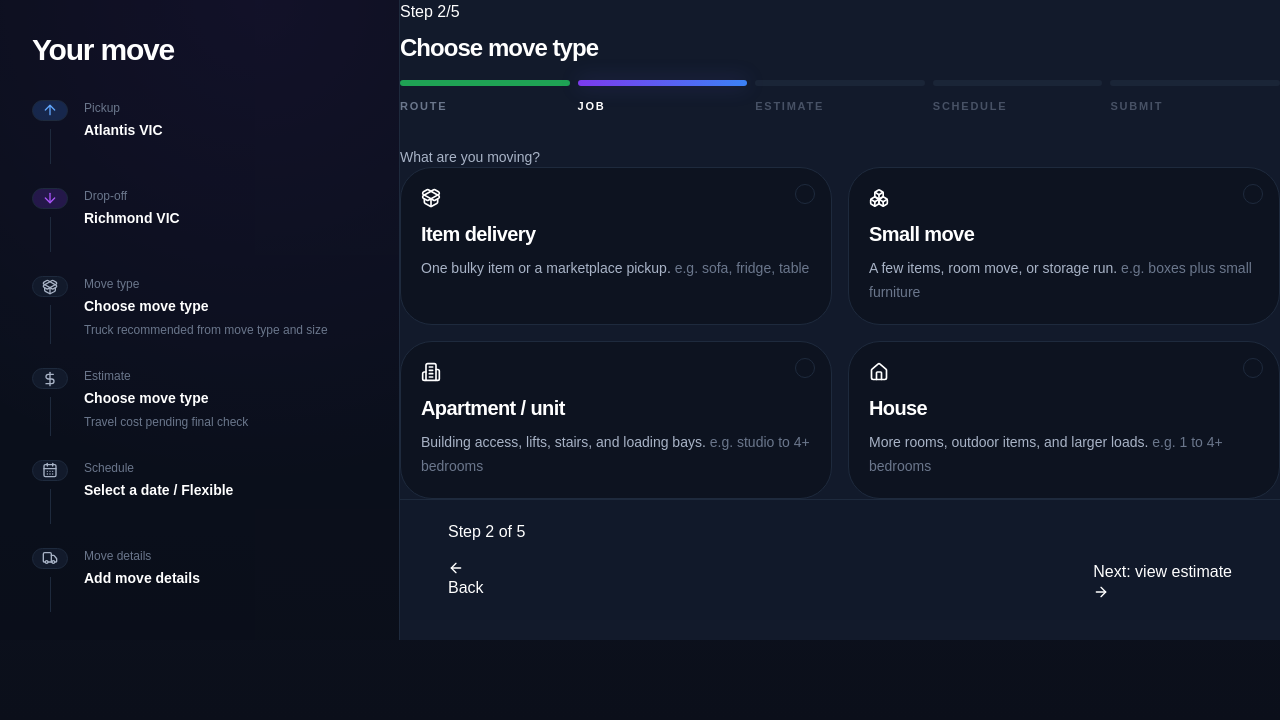
it: QuoteForm route pricing integration › falls back to pending travel pricing when Google cannot return the route
Step 1. Click the radio button labelled "Small move" → x=922, y=234, box top-left (848, 166), bottom-right (1279, 324)
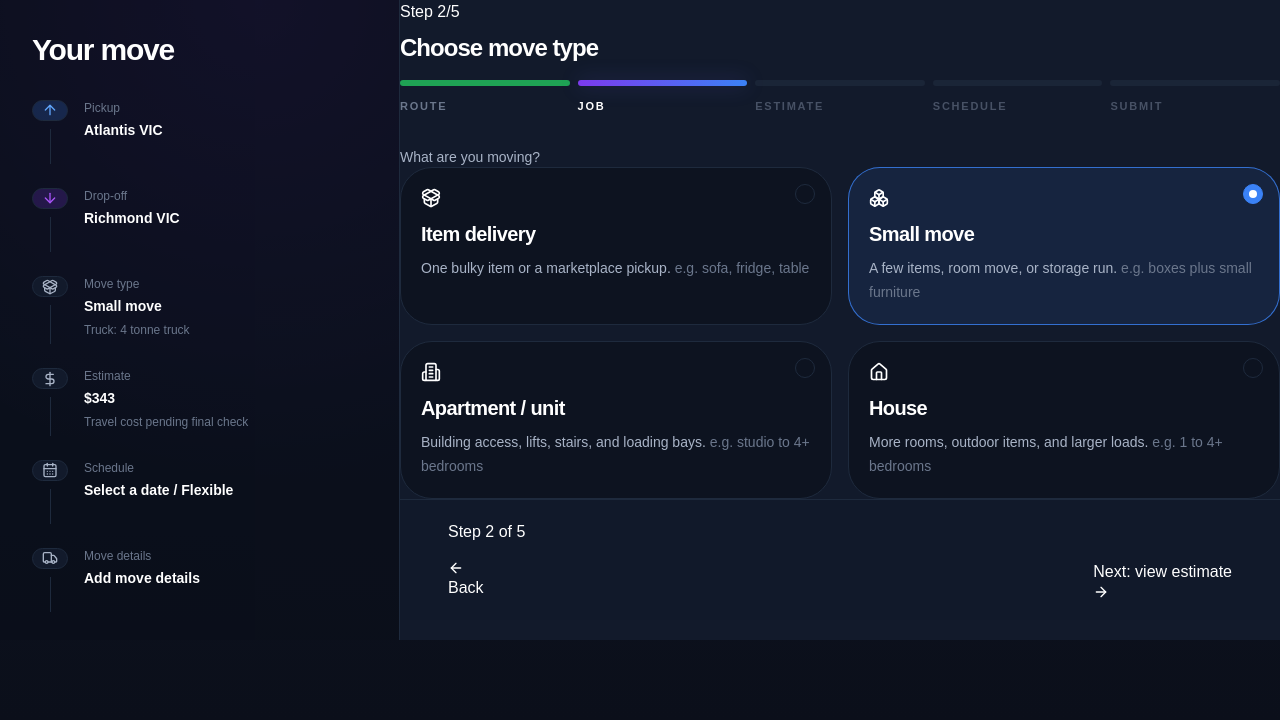
Now the text "$343" is shown, box top-left (84, 390), bottom-right (115, 406)
Step 2. Click the button "Next: view estimate" → x=1163, y=580, box top-left (1093, 560), bottom-right (1232, 600)
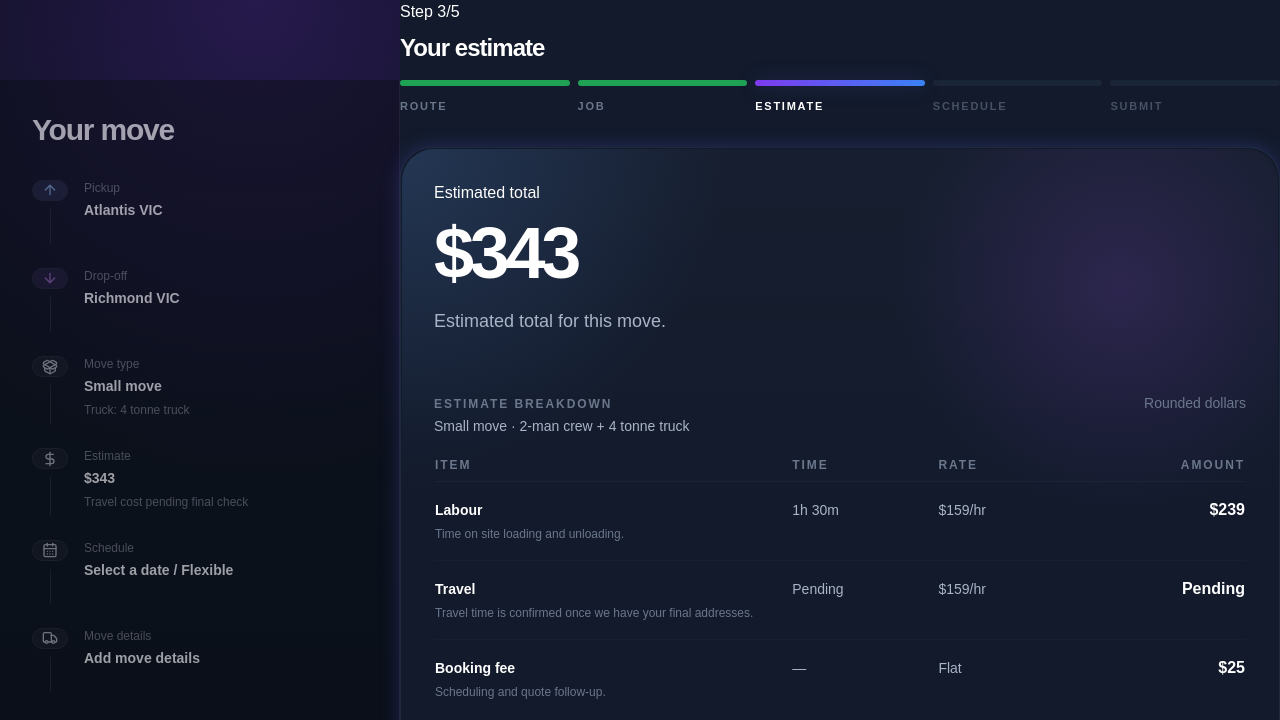
Now the text "Small move" is shown, box top-left (84, 378), bottom-right (162, 394)
Now the heading "Your estimate" is shown, box top-left (400, 34), bottom-right (544, 61)
Now the text "Small move · 2-man crew + 4 tonne truck" is shown, box top-left (434, 416), bottom-right (690, 436)
